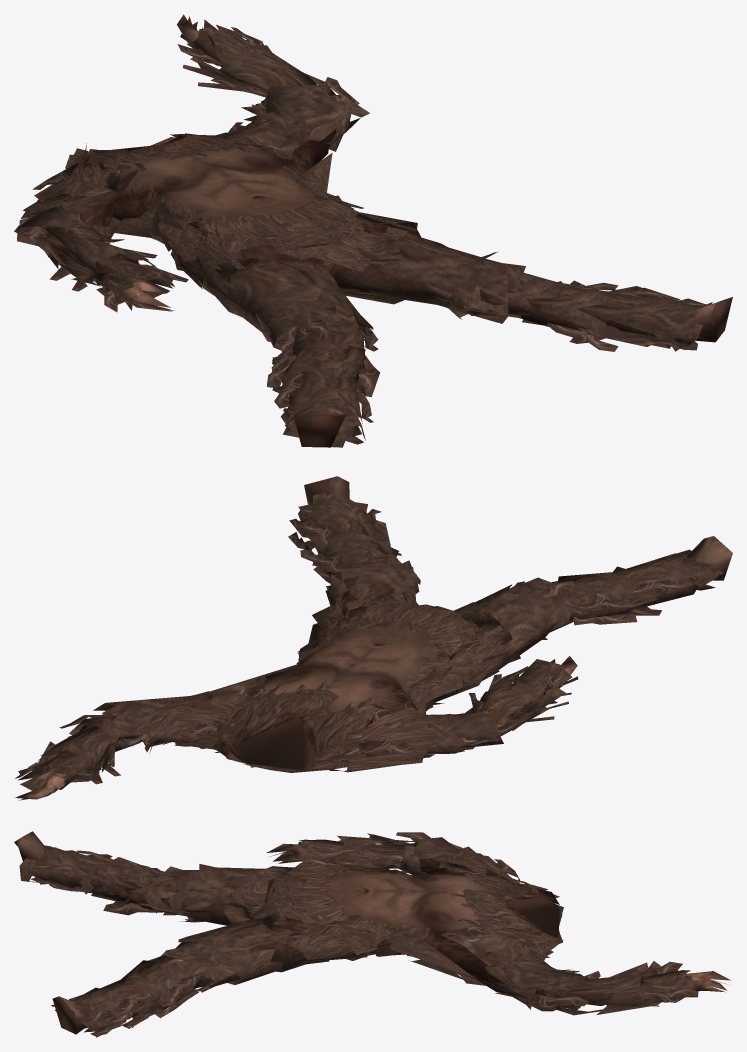
Rendered from BigFootSuit_Ground.fbx.
3 views of the same model, one above another, from view 1: azimuth 30°, elevation 25°; view 2: azimuth 150°, elevation 25°; view 3: azimuth 270°, elevation 25° (orthographic). The views are drawn at different scales.
Parts seen in each view (by area): view 1: BigFootSuit; view 2: BigFootSuit; view 3: BigFootSuit.
Part boxes in pixels (bbox=[...]): BigFootSuit: bbox=[14, 14, 732, 447]; BigFootSuit: bbox=[15, 476, 732, 800]; BigFootSuit: bbox=[14, 831, 731, 1037].
Bounding box in the file's own units: 0.6439 × 0.1028 × 1.09.
